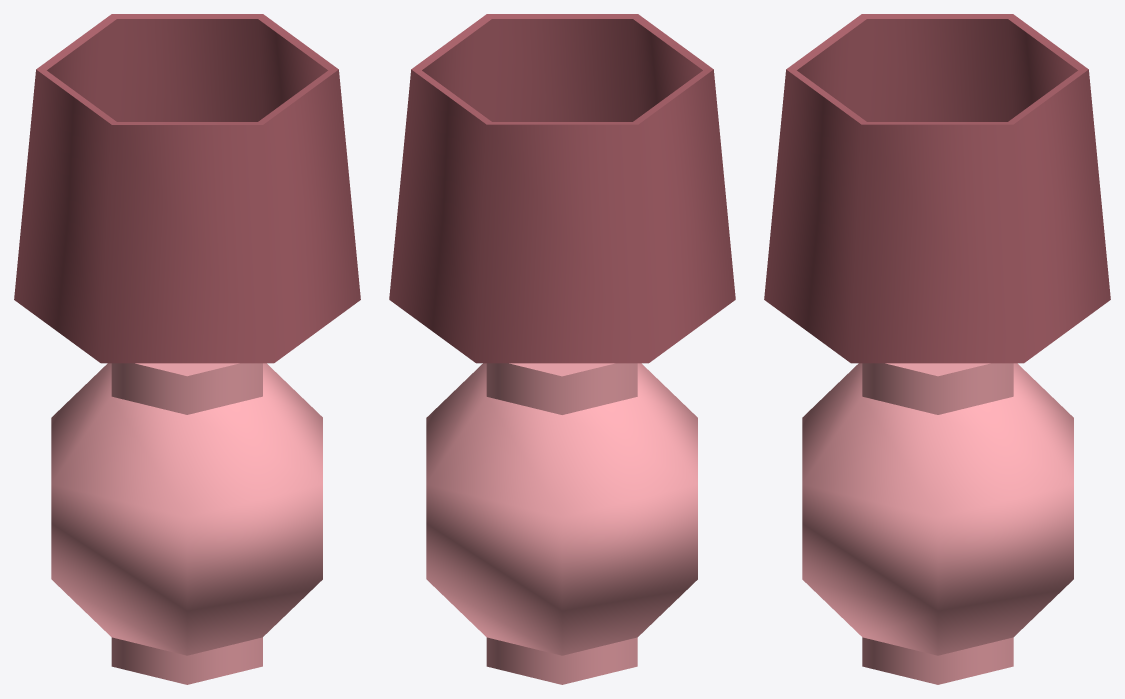
Rendered from SM_Lamp_Table_1_03.fbx.
3 renders of one model, left to right at view 1: azimuth 30°, elevation 25°; view 2: azimuth 150°, elevation 25°; view 3: azimuth 270°, elevation 25°, orthographic.
Parts seen in each view (by area): view 1: SM_Lamp_Table_1_03; view 2: SM_Lamp_Table_1_03; view 3: SM_Lamp_Table_1_03.
Boxes of the visible parts, left/top/right/bottom form: SM_Lamp_Table_1_03: left=14, top=14, right=360, bottom=684; SM_Lamp_Table_1_03: left=389, top=14, right=735, bottom=684; SM_Lamp_Table_1_03: left=764, top=14, right=1110, bottom=684.
Bounding box in the file's own units: 24.42 × 49.69 × 26.98.
